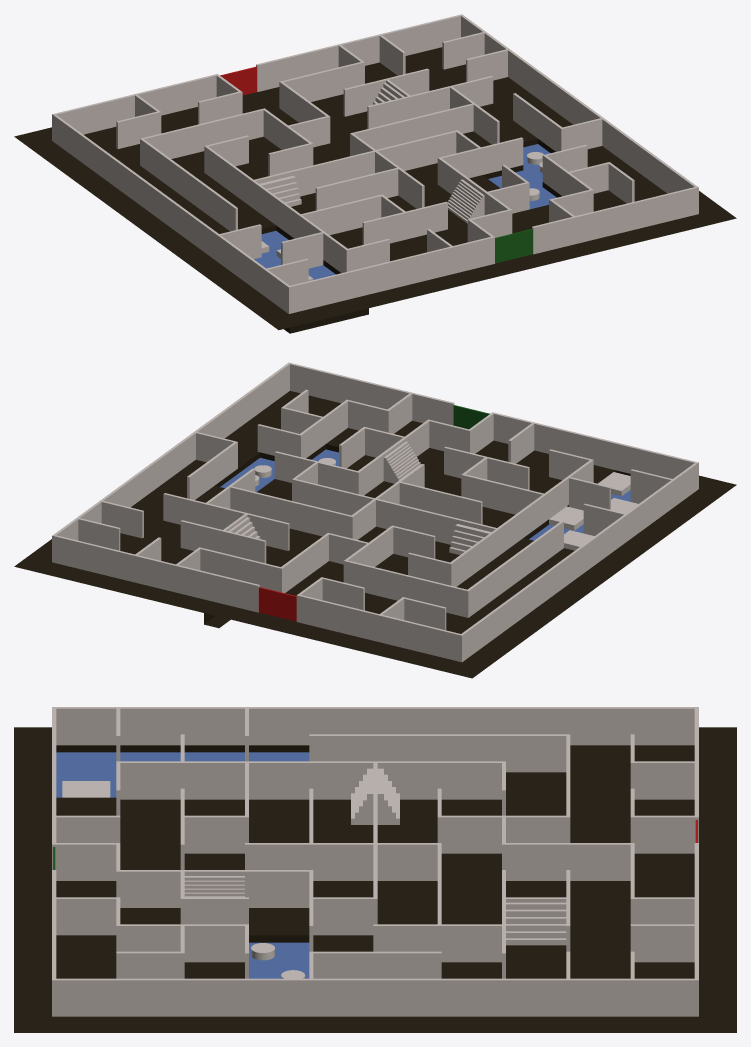
File: maze_with_doors_and_pits_and_stairs.fbx
3 views of the same model, one above another, from view 1: azimuth 30°, elevation 25°; view 2: azimuth 150°, elevation 25°; view 3: azimuth 270°, elevation 25° (orthographic). The views are drawn at different scales.
Visible parts, largest first — view 1: Maze, Ground, Stairs40_2, Water_2, Water_1, Stairs85_2, SlowShiftWall_3a; view 2: Maze, Ground, SlowShiftWall_3a, Stairs40_2, SlowShiftWall_4b, Stairs85_1, Water_2, SlowShiftWall_4a, Platform_2, Red Door R, Red Door L; view 3: Maze, Ground, SlowShiftWall_3a, Water_1, Stairs75_2, SlowShiftWall_3b, SlowShiftWall_2, SlowShiftWall_3c, SlowShiftWall_4a, SlowShiftWall_4b, SlowShiftWall_1, Water_2 (+4 smaller).
Boxes of the visible parts, x1=… form: Maze: x1=52, y1=14, x2=698, y2=313; Ground: x1=14, y1=47, x2=736, y2=333; Stairs40_2: x1=448, y1=179, x2=484, y2=223; Water_2: x1=488, y1=144, x2=556, y2=209; Water_1: x1=254, y1=231, x2=335, y2=279; Stairs85_2: x1=260, y1=175, x2=301, y2=206; SlowShiftWall_3a: x1=350, y1=133, x2=398, y2=172; Maze: x1=52, y1=362, x2=698, y2=662; Ground: x1=14, y1=391, x2=736, y2=678; SlowShiftWall_3a: x1=350, y1=482, x2=399, y2=539; Stairs40_2: x1=383, y1=441, x2=420, y2=483; SlowShiftWall_4b: x1=467, y1=413, x2=493, y2=453; Stairs85_1: x1=449, y1=524, x2=491, y2=554; Water_2: x1=220, y1=449, x2=338, y2=492; SlowShiftWall_4a: x1=405, y1=419, x2=430, y2=456; Platform_2: x1=549, y1=506, x2=583, y2=530; Red Door R: x1=258, y1=587, x2=278, y2=616; Red Door L: x1=277, y1=592, x2=296, y2=621; Maze: x1=52, y1=707, x2=698, y2=1016; Ground: x1=14, y1=727, x2=736, y2=1032; SlowShiftWall_3a: x1=313, y1=843, x2=441, y2=880; Water_1: x1=56, y1=752, x2=309, y2=797; Stairs75_2: x1=506, y1=902, x2=566, y2=945; SlowShiftWall_3b: x1=313, y1=897, x2=377, y2=935; SlowShiftWall_2: x1=437, y1=924, x2=501, y2=962; SlowShiftWall_3c: x1=184, y1=815, x2=244, y2=853; SlowShiftWall_4a: x1=117, y1=870, x2=180, y2=907; SlowShiftWall_4b: x1=56, y1=843, x2=120, y2=880; SlowShiftWall_1: x1=630, y1=897, x2=694, y2=924; Water_2: x1=249, y1=942, x2=309, y2=978.
Bounding box in the file's own units: 9000 × 1000 × 9000.
